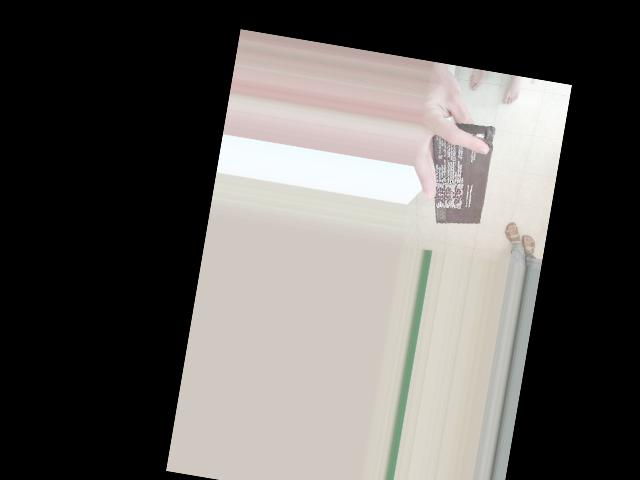chocolate: (416, 117, 497, 233)
